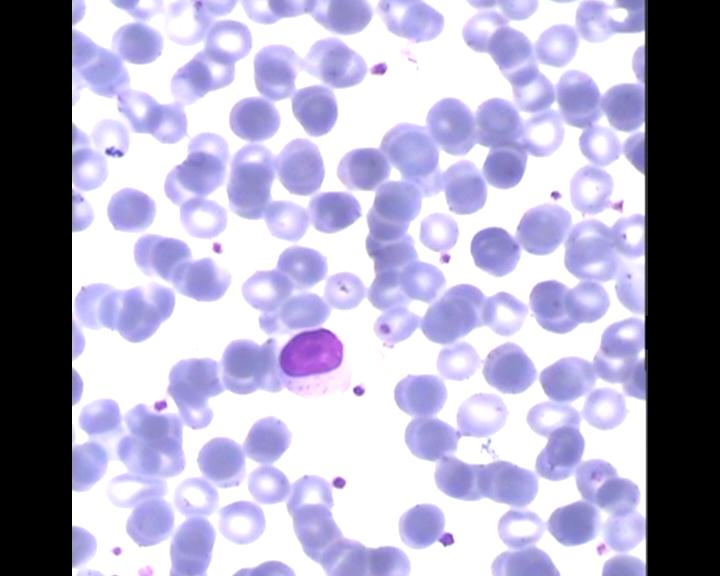mono: (270, 318, 366, 403)
